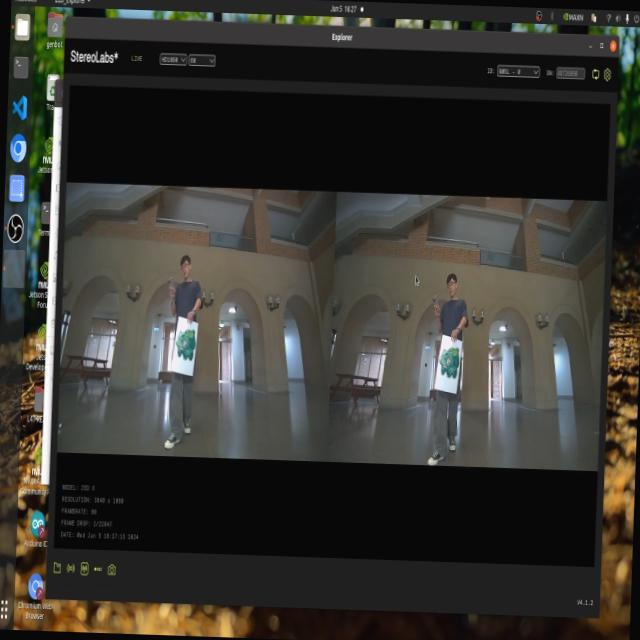green: (167, 318, 203, 374), (441, 359, 470, 390)
